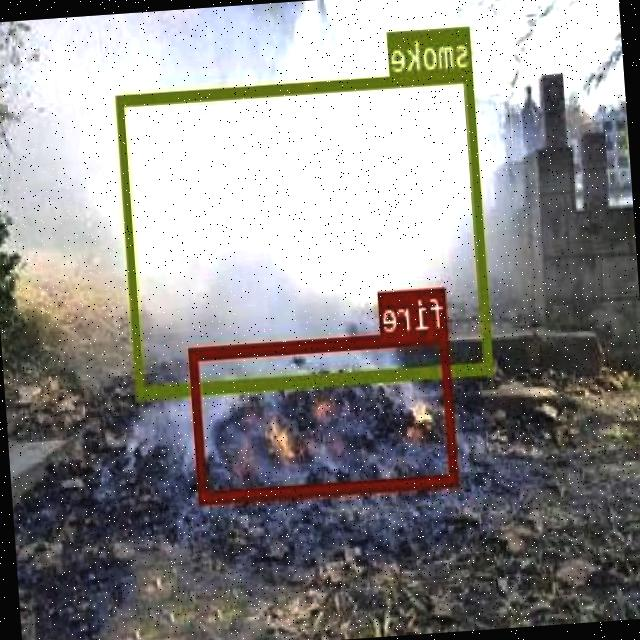fire: (190, 327, 458, 501)
smoke: (117, 68, 494, 397)
